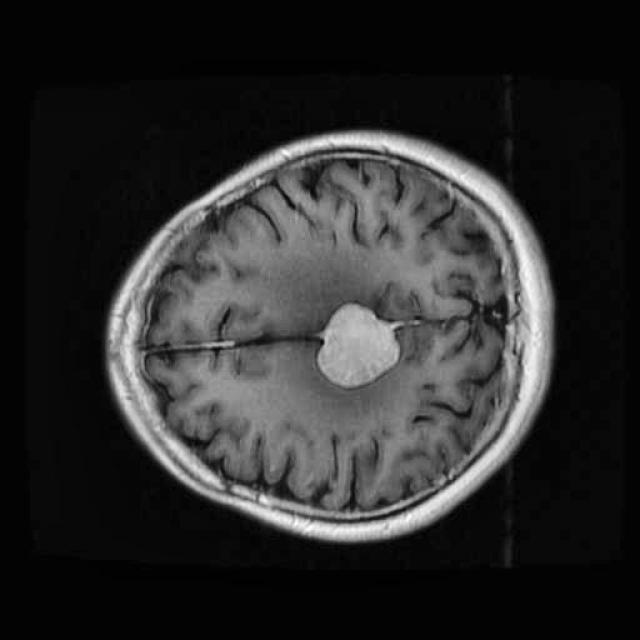Tumor: (302, 285, 409, 401)
